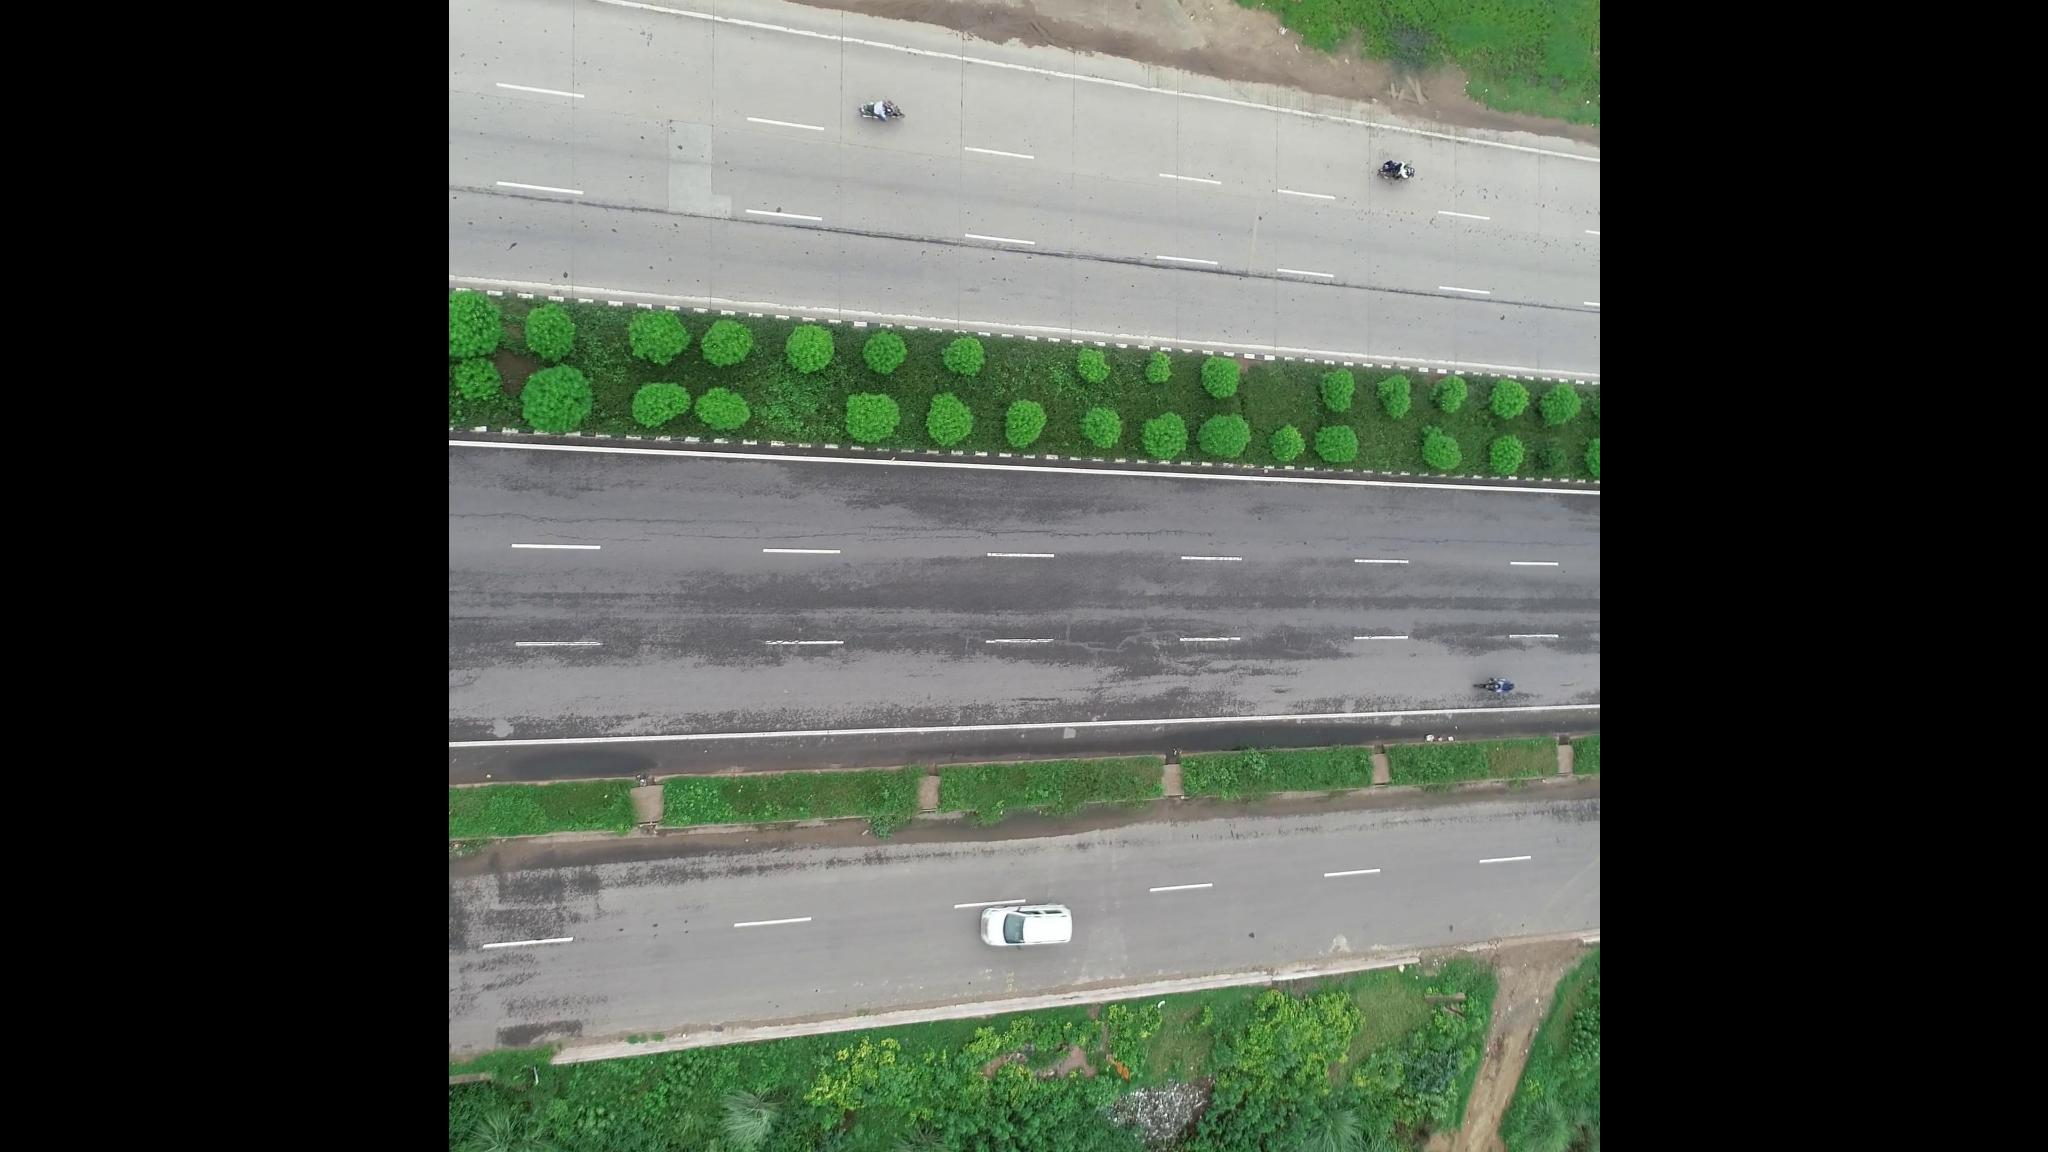Cracks: (859, 513, 1211, 549), (1342, 535, 1588, 550)
